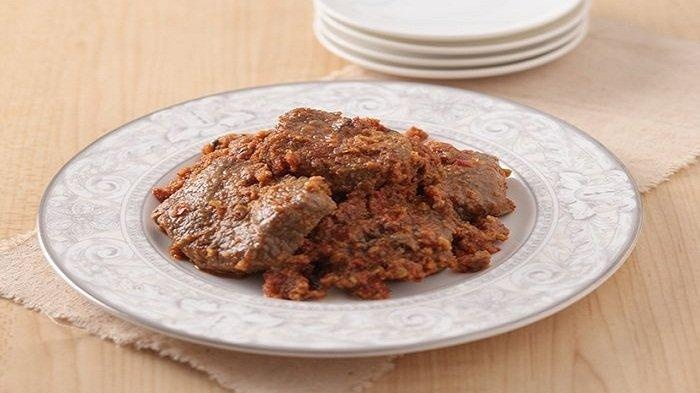rendang: (149, 107, 518, 299)
